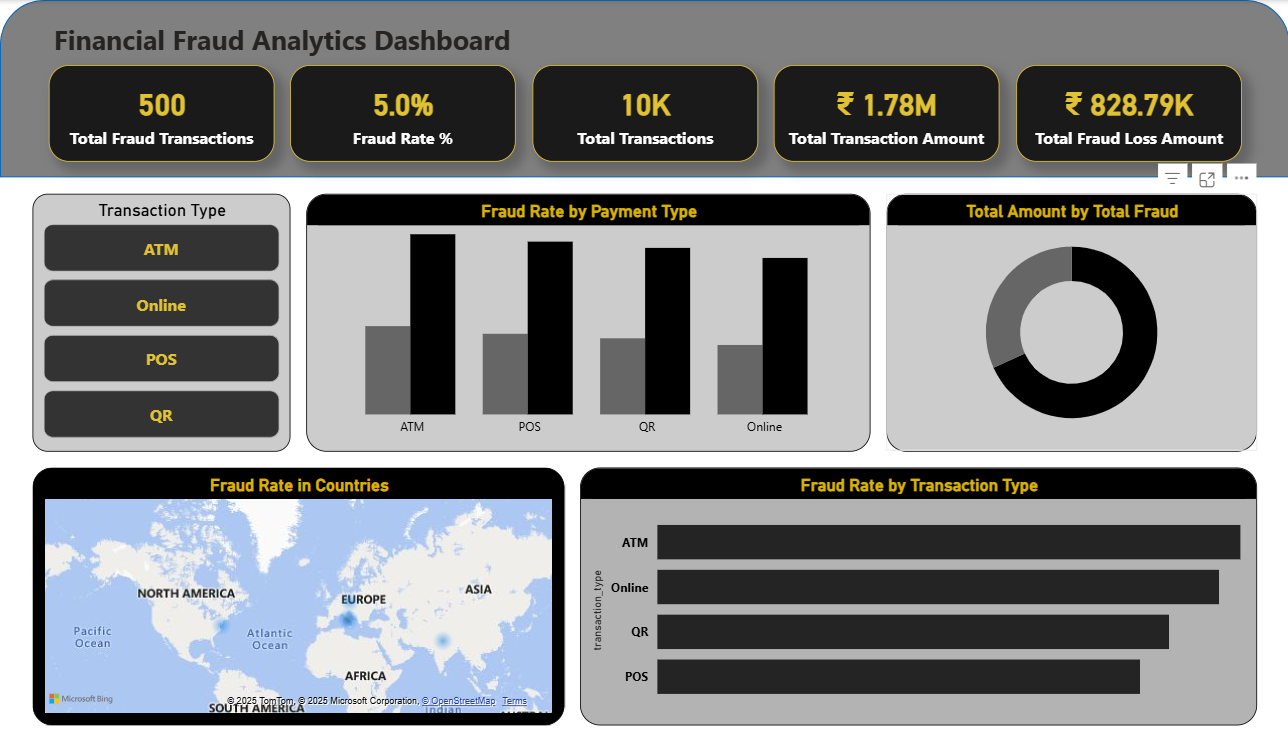

This screenshot's page, from the dashboard's own definition file:
{"tool":"powerbi","page":{"name":"Page 1","canvas":[1280,731],"ordinal":0},"visuals":[{"type":"shape","box":[0,0,1280,176],"z":0},{"type":"card","fields":{"Values":["public financial_fraud.Total Fraud Transactions"]},"box":[48,64,224,96],"z":1000},{"type":"card","fields":{"Values":["public financial_fraud.Total Transaction Amount"]},"box":[768,64,224,96],"z":2000},{"type":"card","fields":{"Values":["public financial_fraud.Total Transactions"]},"box":[528,64,224,96],"z":3000},{"type":"card","fields":{"Values":["public financial_fraud.Fraud Rate %"]},"box":[288,64,224,96],"z":4000},{"type":"card","fields":{"Values":["public financial_fraud.Total Fraud Loss Amount"]},"box":[1008,64,224,96],"z":5000},{"type":"textbox","box":[48,16,1200,48],"z":6000},{"type":"advancedSlicerVisual","title":"Transaction Type","fields":{"Values":["public financial_fraud.transaction_type"]},"box":[32,192,256,256],"z":7000},{"type":"map","title":"Fraud Rate in Countries","fields":{"Category":["public financial_fraud.country"]},"box":[32,464,528,256],"z":8000},{"type":"clusteredBarChart","title":"Fraud Rate by Transaction Type","fields":{"Category":["public financial_fraud.transaction_type"],"Y":["public financial_fraud.Fraud Rate %"]},"box":[576,464,672,256],"z":9000},{"type":"clusteredColumnChart","title":"Fraud Rate by Payment Type","fields":{"Y":["public financial_fraud.Total Fraud Loss Amount","public financial_fraud.Total Transaction Amount"],"Category":["public financial_fraud.transaction_type"]},"box":[304,192,560,256],"z":10000},{"type":"donutChart","title":"Total Amount by Total Fraud","fields":{"Y":["public financial_fraud.Total Transaction Amount","public financial_fraud.Total Fraud Loss Amount"]},"box":[880,192,368,256],"z":11000}]}

Visuals, with their boxes in screenshot pixels (x1, y1, x2, y2), scaled from the page's 1280x731 canvas onto the 1288x733 screenshot:
shape: (x1=0, y1=0, x2=1287, y2=176)
card - public financial_fraud.Total Fraud Transactions: (x1=48, y1=64, x2=274, y2=160)
card - public financial_fraud.Total Transaction Amount: (x1=773, y1=64, x2=998, y2=160)
card - public financial_fraud.Total Transactions: (x1=531, y1=64, x2=757, y2=160)
card - public financial_fraud.Fraud Rate %: (x1=290, y1=64, x2=515, y2=160)
card - public financial_fraud.Total Fraud Loss Amount: (x1=1014, y1=64, x2=1240, y2=160)
textbox: (x1=48, y1=16, x2=1256, y2=64)
"Transaction Type" advancedSlicerVisual: (x1=32, y1=193, x2=290, y2=449)
"Fraud Rate in Countries" map: (x1=32, y1=465, x2=564, y2=722)
"Fraud Rate by Transaction Type" clusteredBarChart: (x1=580, y1=465, x2=1256, y2=722)
"Fraud Rate by Payment Type" clusteredColumnChart: (x1=306, y1=193, x2=869, y2=449)
"Total Amount by Total Fraud" donutChart: (x1=886, y1=193, x2=1256, y2=449)
